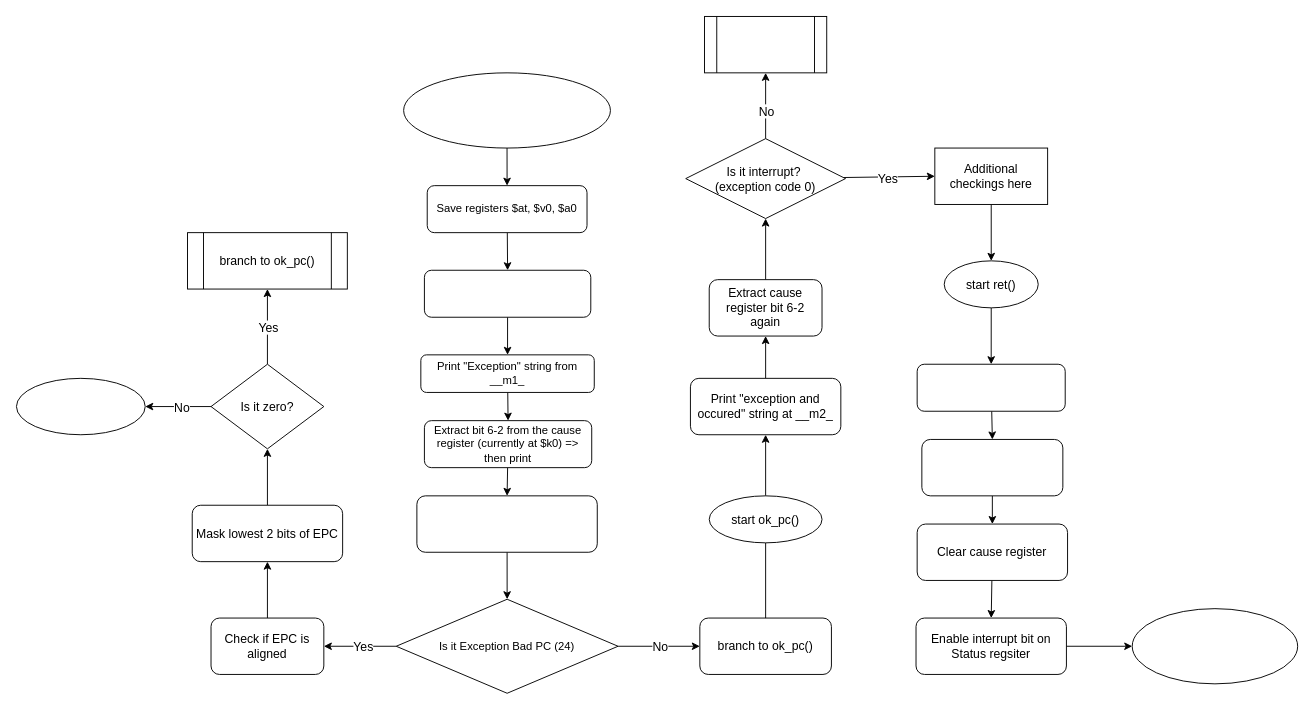
Some shapes in this 1314 by 710 pixel diagram are drawn without their labels. Here are the shapes that lost their labels. From the top down, the box of each, then its label:
(704, 16, 827, 73): skip to ret() procedure
(403, 72, 610, 148): Start at address .ktext 0x80000180
(423, 269, 591, 317): Load Cause at $13 to $k0
(16, 377, 145, 435): Exit (really bad PC)
(916, 363, 1065, 411): Go to next instruction (EPC + 4)
(921, 439, 1063, 496): Restore registers $at, $v0, $a0
(416, 495, 597, 552): Print specific exception message based on the extracted bit (bit 6-2)
(1131, 608, 1298, 684): Return to program (eret)
